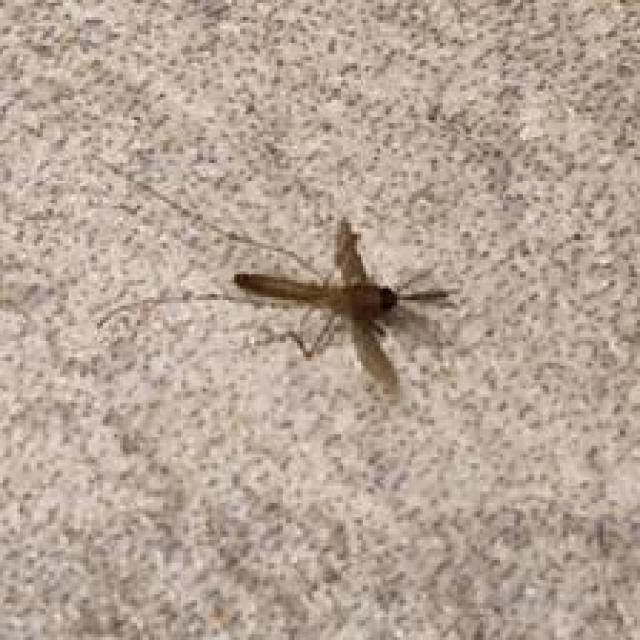Culex: (229, 216, 460, 401)
